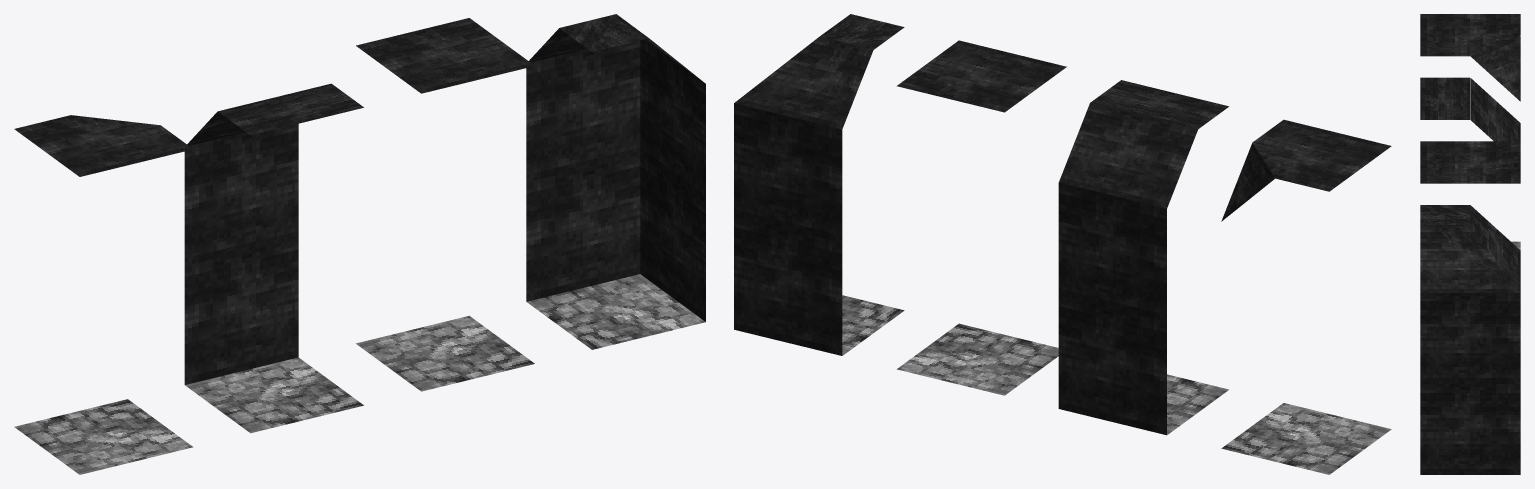
The model's file is tileset.glb.
The picture shows the model from 3 angles, left to right: view 1: azimuth 30°, elevation 25°; view 2: azimuth 150°, elevation 25°; view 3: azimuth 270°, elevation 25°; orthographic projection. The views are drawn at different scales.
Parts seen in each view (by area): view 1: corner, wall, floor, cornerfloor; view 2: wall, corner, cornerfloor, floor; view 3: corner, cornerfloor, floor, wall.
Boxes of the visible parts, x1,y1,x2,y2 form: corner: [526, 14, 705, 349]; wall: [184, 83, 363, 433]; floor: [356, 18, 534, 391]; cornerfloor: [14, 115, 193, 474]; wall: [1058, 80, 1228, 435]; corner: [734, 14, 904, 355]; cornerfloor: [1221, 119, 1391, 474]; floor: [896, 40, 1066, 395]; corner: [1420, 205, 1520, 474]; cornerfloor: [1420, 14, 1520, 249]; floor: [1420, 141, 1520, 183]; wall: [1420, 77, 1520, 141].
Bounding box in the file's own units: 11 × 5.01 × 2.
Materials: 1 (1 with a texture image).
